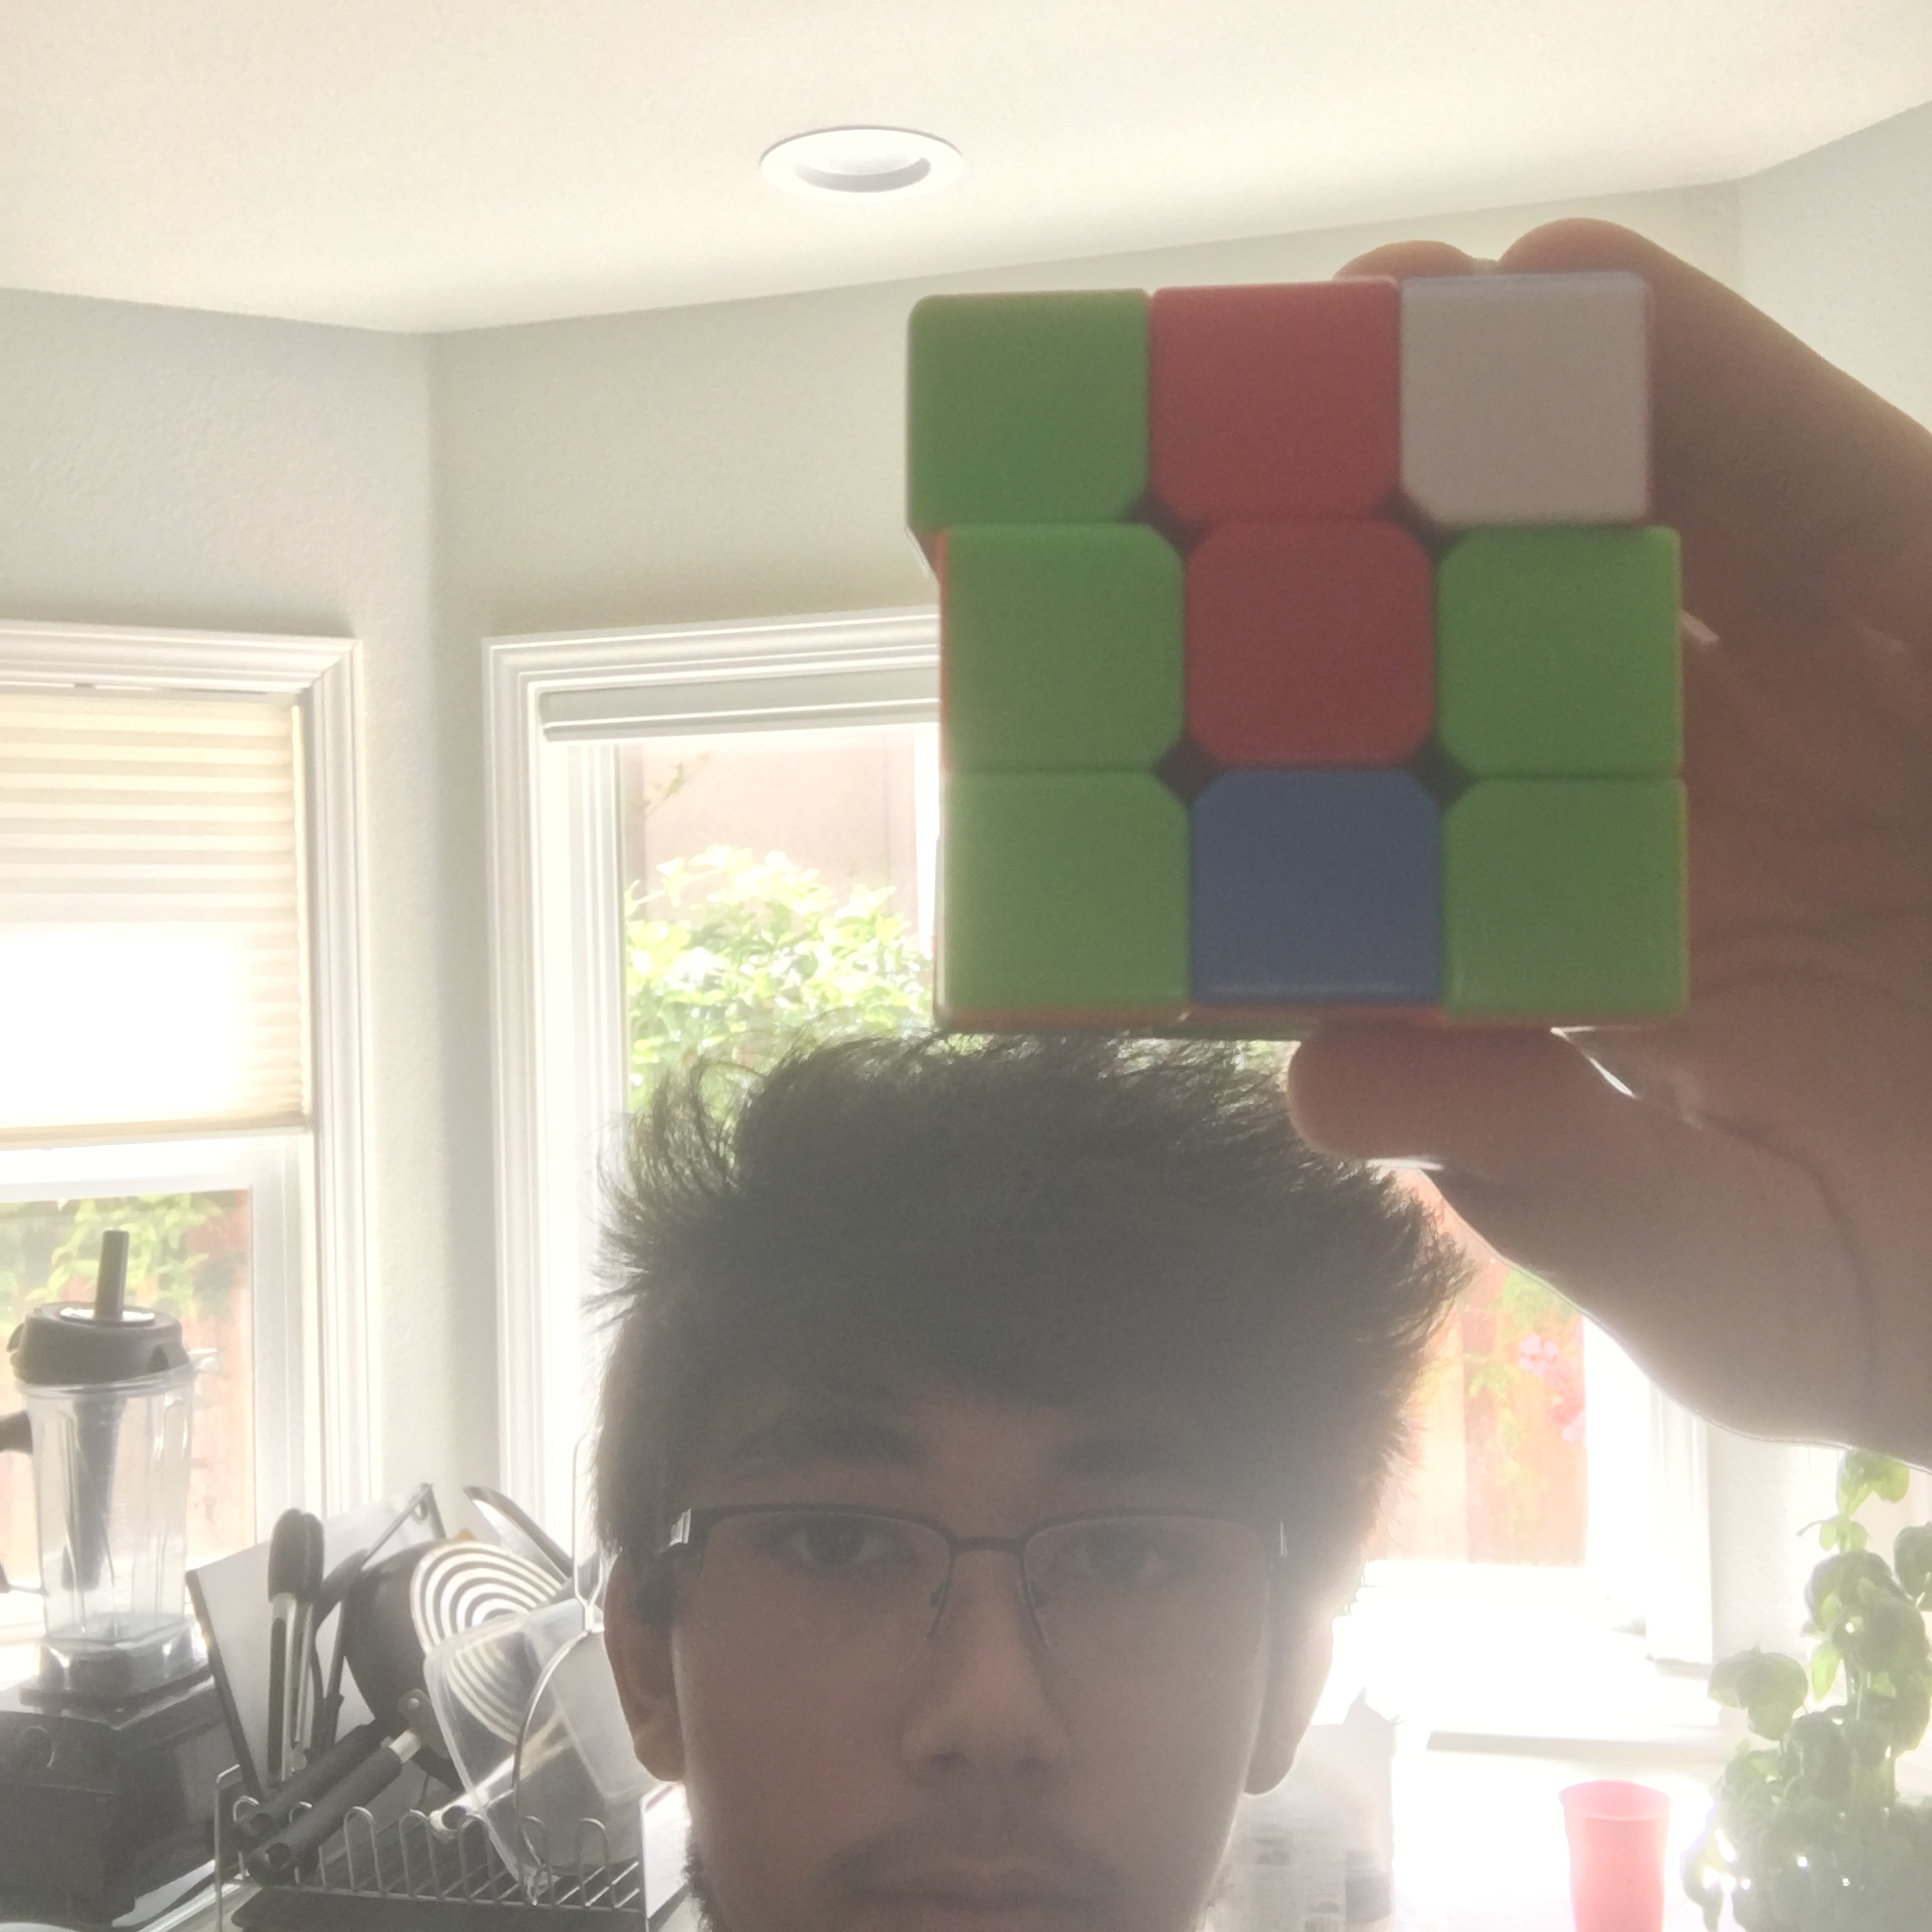face: (904, 290, 1695, 1025)
